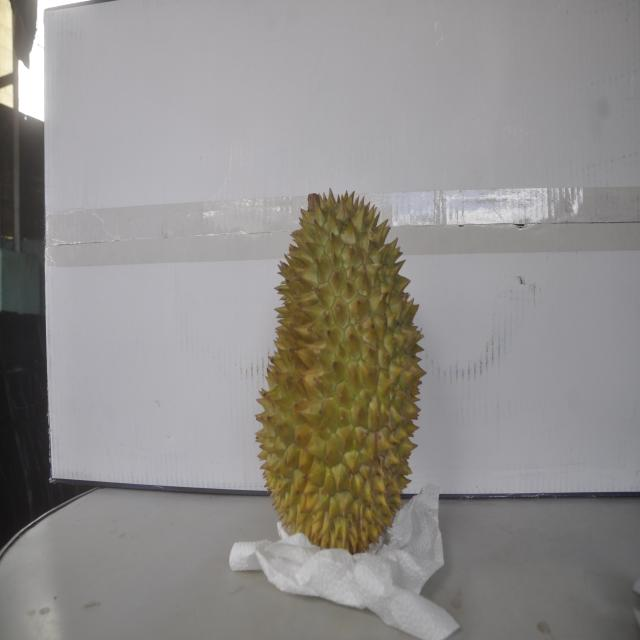mature: (251, 188, 421, 549)
